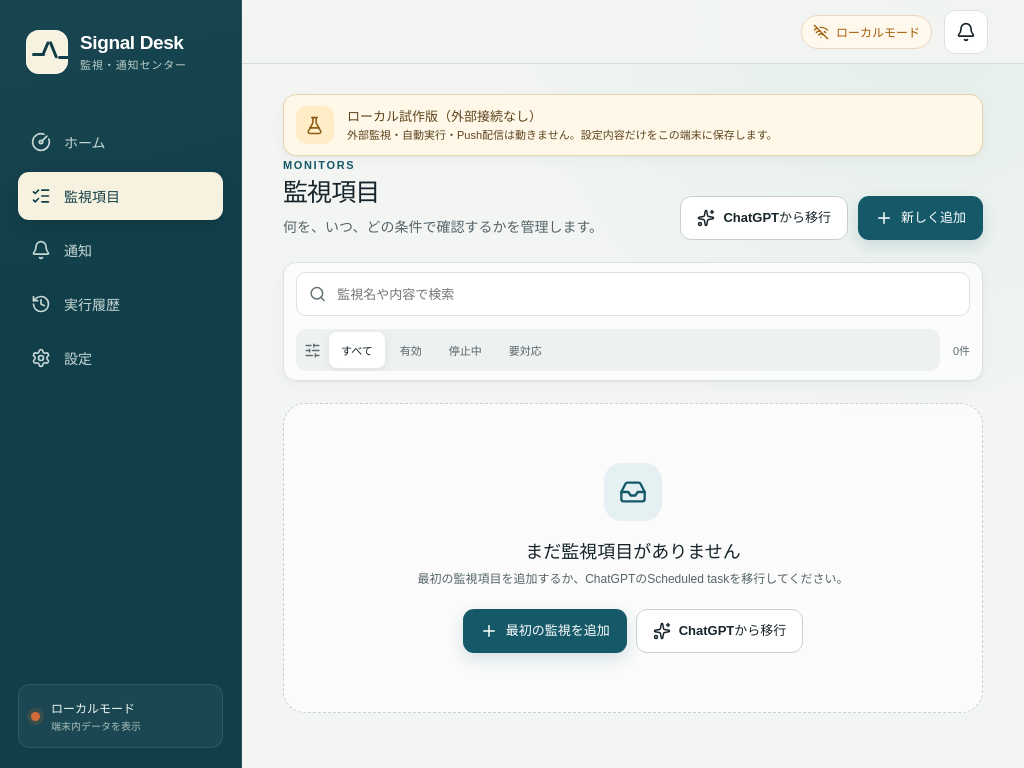
Test: Signal Desk › isolates the page behind a modal and restores it after Escape
Click the button "最初の監視を追加" at coordinates (545, 631), box [463,609,627,653]
(page scrolled)
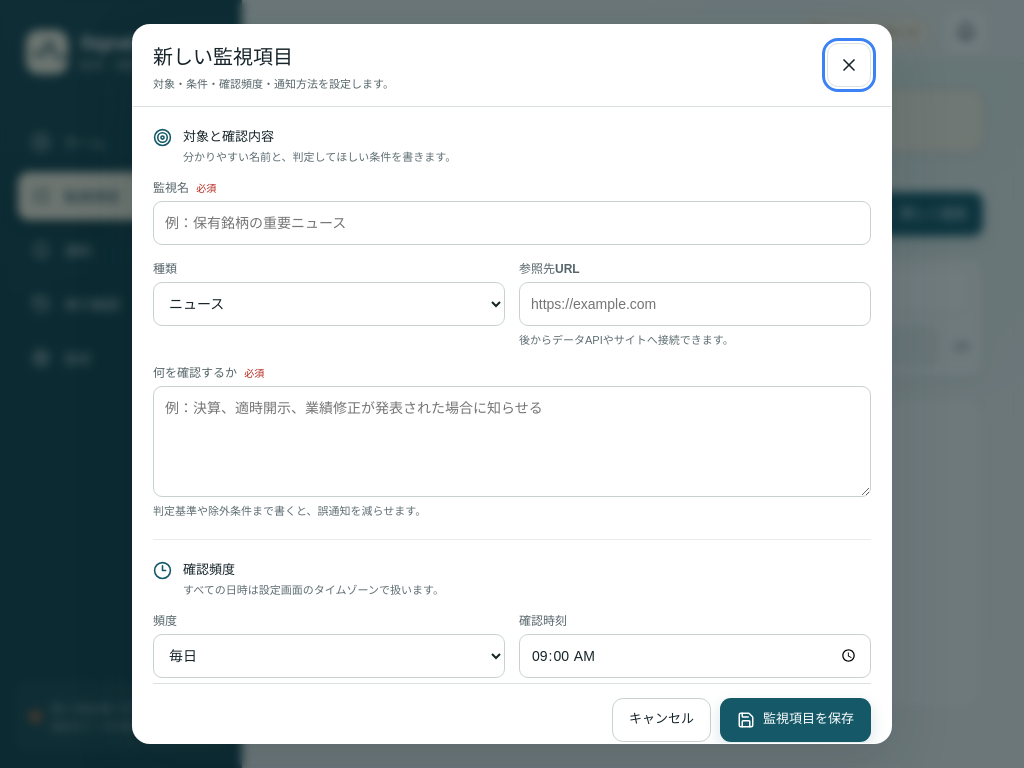
Expected: the dialog "新しい監視項目" is shown
Press Escape
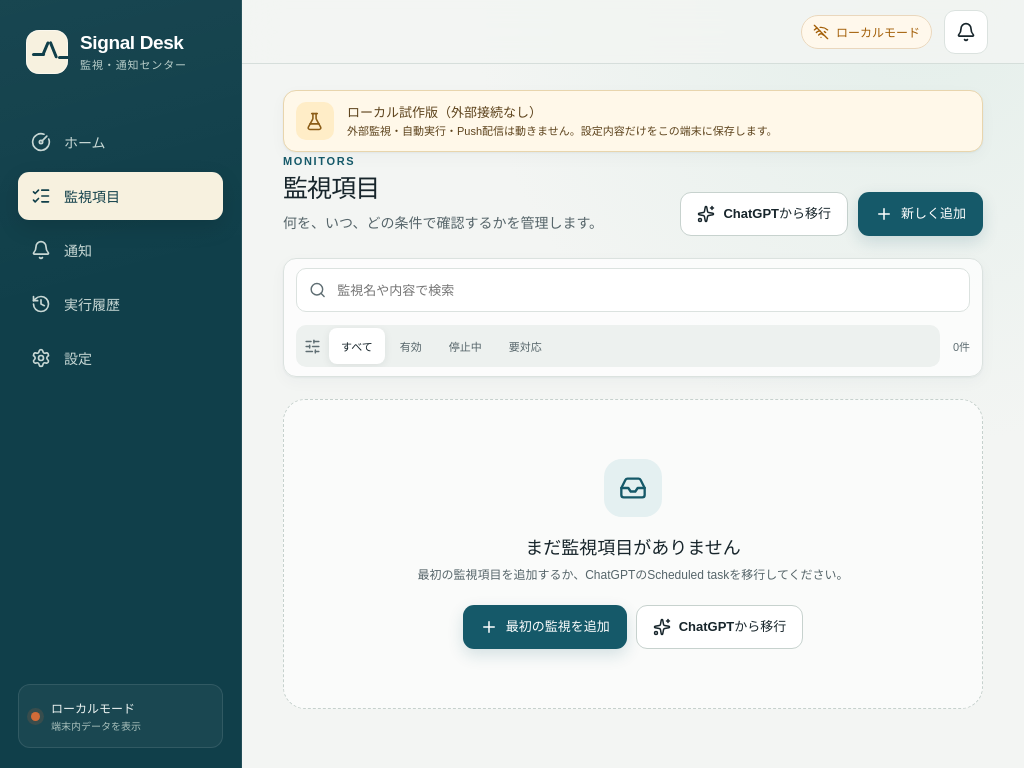
Expected: the dialog is gone
